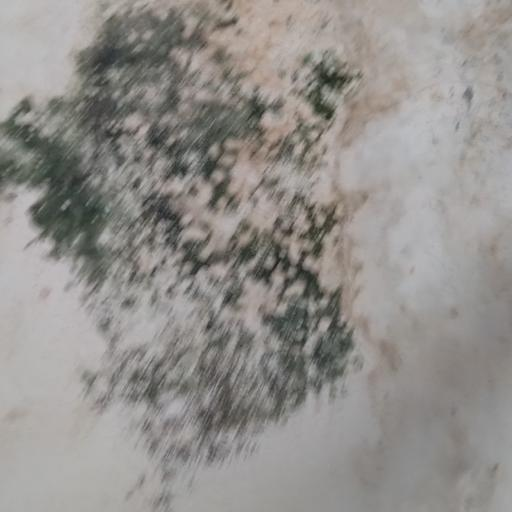algae: (8, 10, 401, 471)
